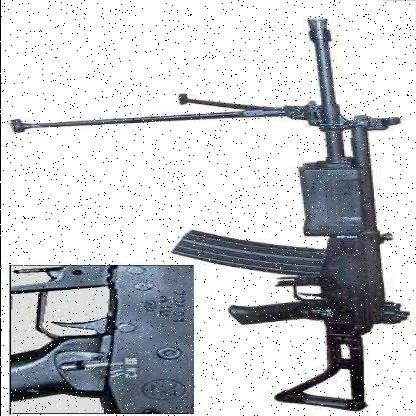rifle: (162, 11, 403, 411), (1, 264, 194, 411)
